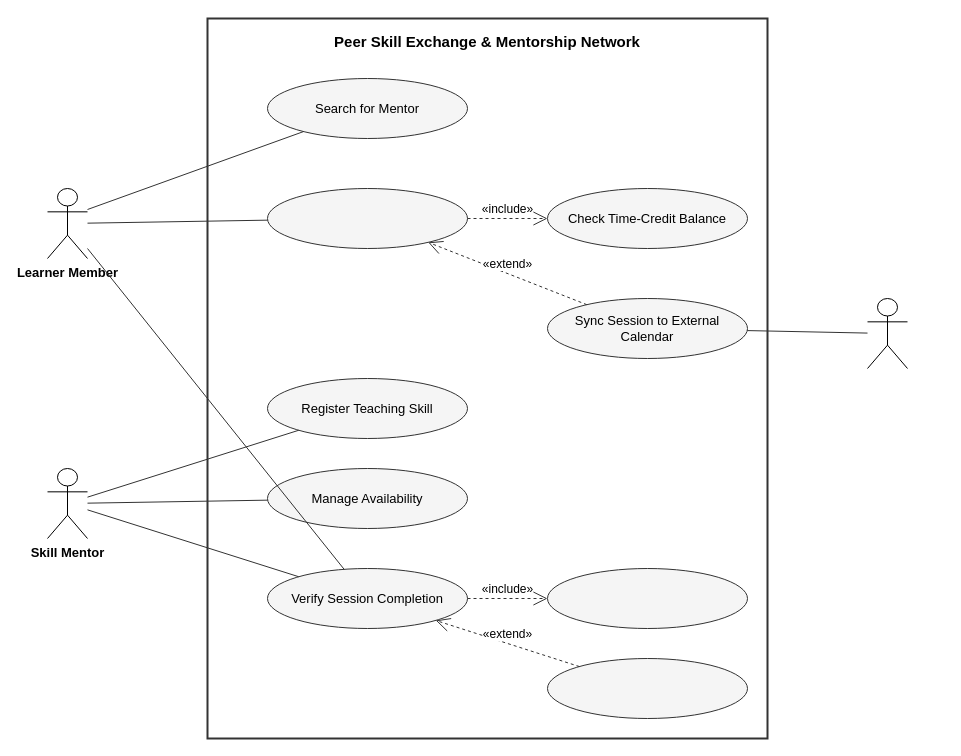
The diagram is 961 pixels wide and 756 high, and some of its shapes have lost their labels. The centre of each missing label's shape, as x and y in pixels:
"Add Written Feedback Comment" goes at [647,688].
"Book Skill Session" goes at [367,218].
"Calendar Service «external system»" goes at [887,333].
"Manage Time-Credit Balance" goes at [647,598].
